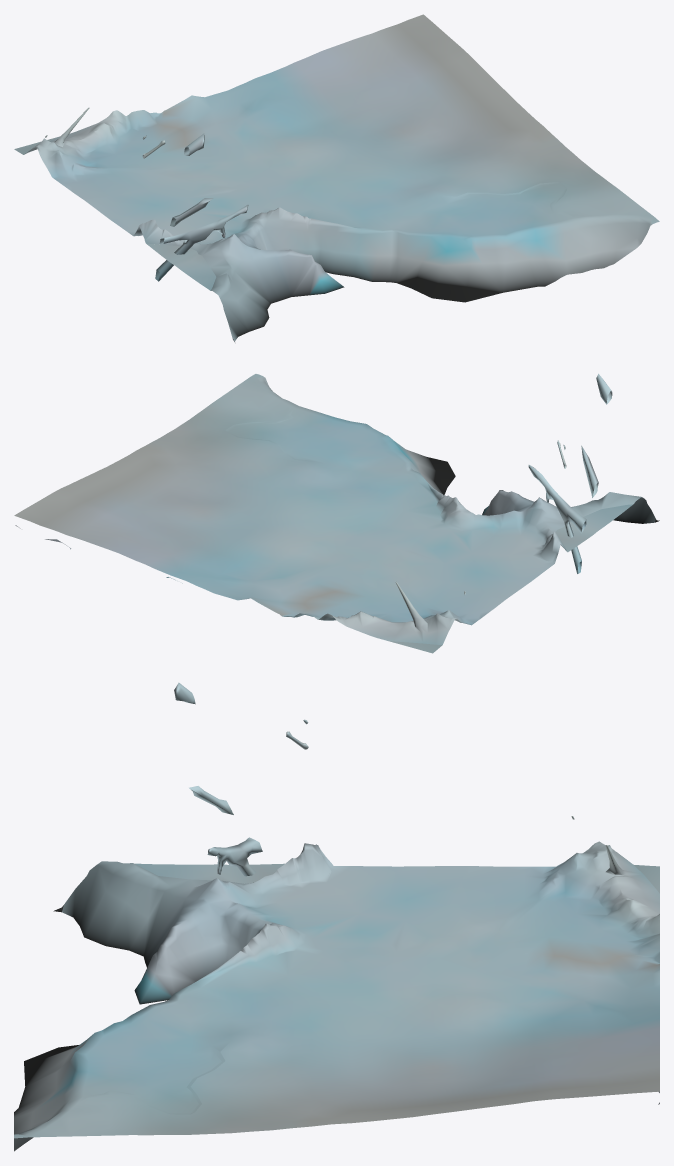
3 renders of one model, top to bottom at view 1: azimuth 30°, elevation 25°; view 2: azimuth 150°, elevation 25°; view 3: azimuth 270°, elevation 25°, orthographic. The views are drawn at different scales.
Visible parts, largest first — view 1: G:\FFXIV-MapTools\exports\s1f2\bg\ffxiv\sea_s1\fld\s1f2\bgpl (×11); view 2: G:\FFXIV-MapTools\exports\s1f2\bg\ffxiv\sea_s1\fld\s1f2\bgpl (×11); view 3: G:\FFXIV-MapTools\exports\s1f2\bg\ffxiv\sea_s1\fld\s1f2\bgpl (×11).
Boxes of the visible parts, box(x1,y1,x2,y2) form: G:\FFXIV-MapTools\exports\s1f2\bg\ffxiv\sea_s1\fld\s1f2\bgpl (×11): box(31, 14, 659, 341); G:\FFXIV-MapTools\exports\s1f2\bg\ffxiv\sea_s1\fld\s1f2\bgpl (×11): box(14, 373, 659, 653); G:\FFXIV-MapTools\exports\s1f2\bg\ffxiv\sea_s1\fld\s1f2\bgpl (×11): box(14, 682, 659, 1151).
Size of the model in its own units: 128 by 53.06 by 128.
